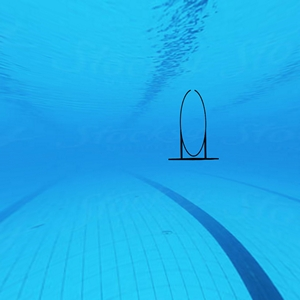circle: (168, 87, 222, 164)
